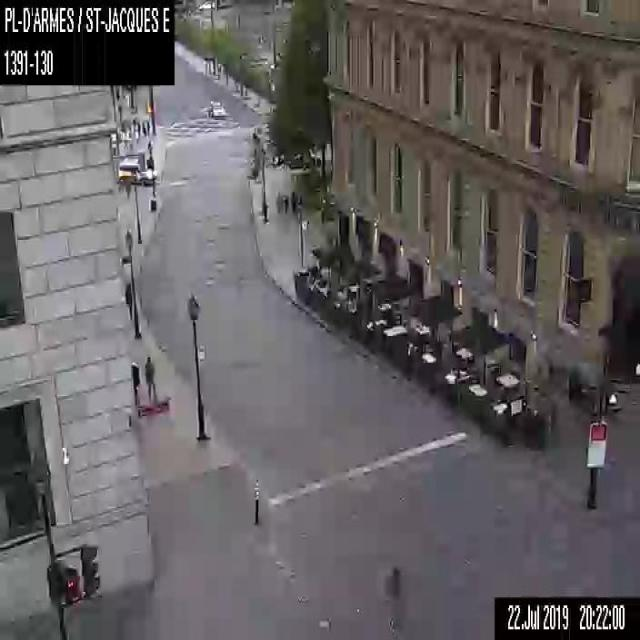pedestrian: (382, 562, 404, 633), (144, 352, 156, 399), (124, 281, 132, 320), (290, 190, 298, 212), (124, 176, 131, 198), (283, 194, 288, 213), (146, 117, 149, 135)
vehicle: (116, 154, 158, 184), (206, 98, 226, 117)
